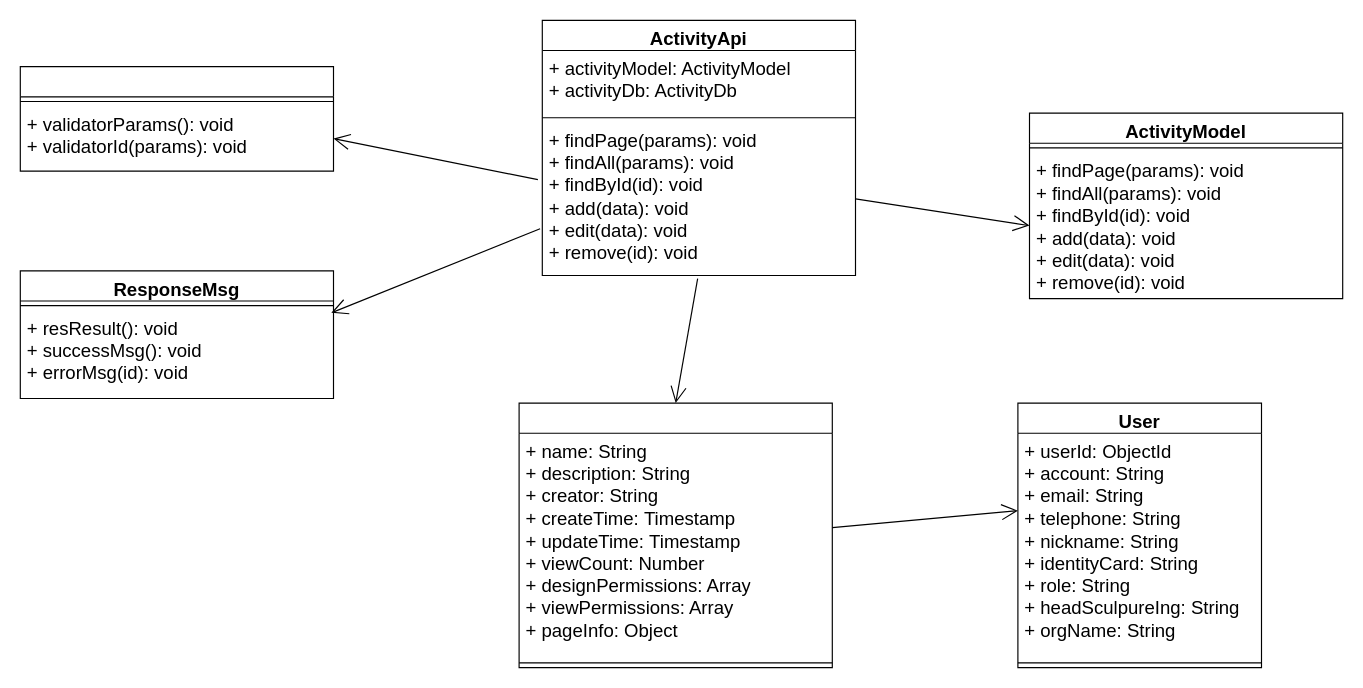
Some shapes in this 1363 by 688 pixel diagram are drawn without their labels. Here are the shapes that lost their labels. From the top down, the box of each, then its label:
(19, 66, 334, 171): ValidatorData
(518, 402, 832, 668): ActivityDb
